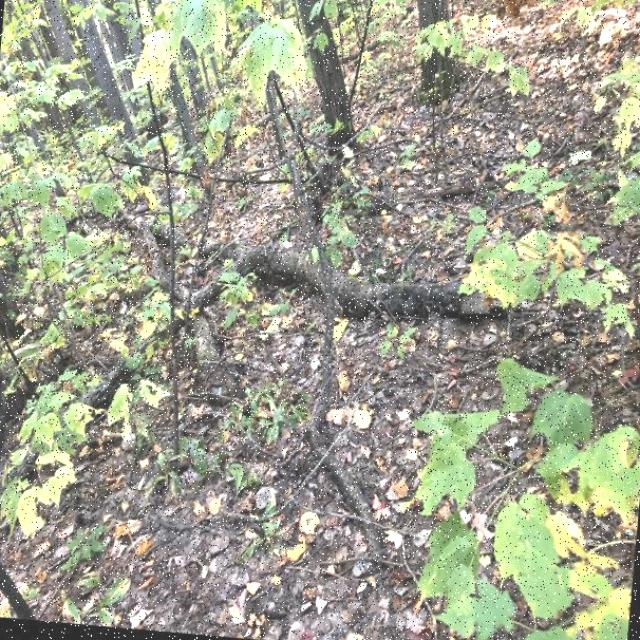fallen_object: (50, 170, 566, 376)
